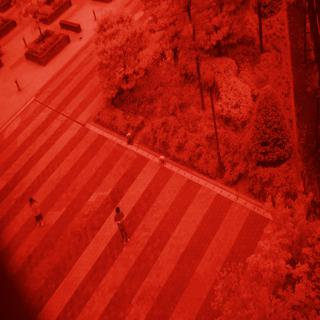person: (25, 191, 53, 237), (110, 202, 133, 248)
